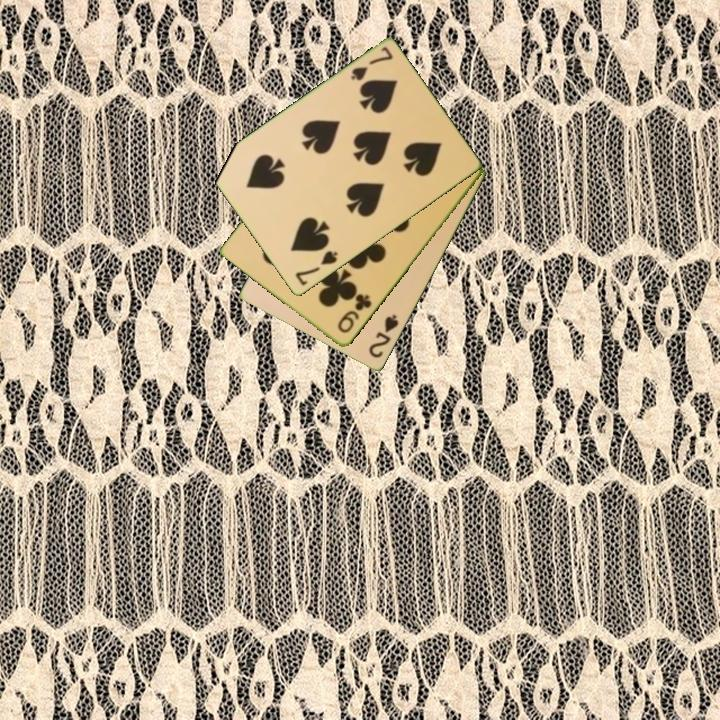2s: (365, 311, 402, 361)
7s: (292, 247, 341, 289), (347, 43, 396, 84)
9c: (334, 290, 375, 336)
